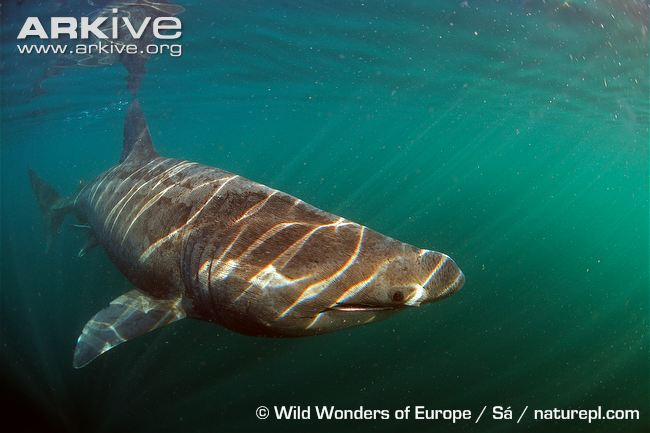shark: (15, 80, 485, 389)
